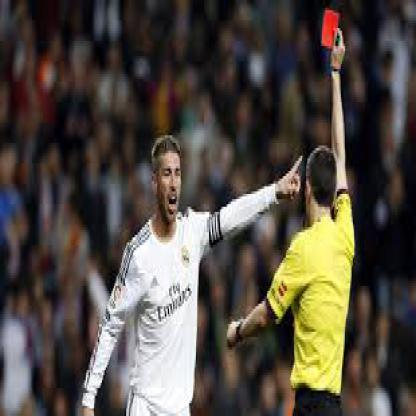foul: (297, 4, 368, 149)
